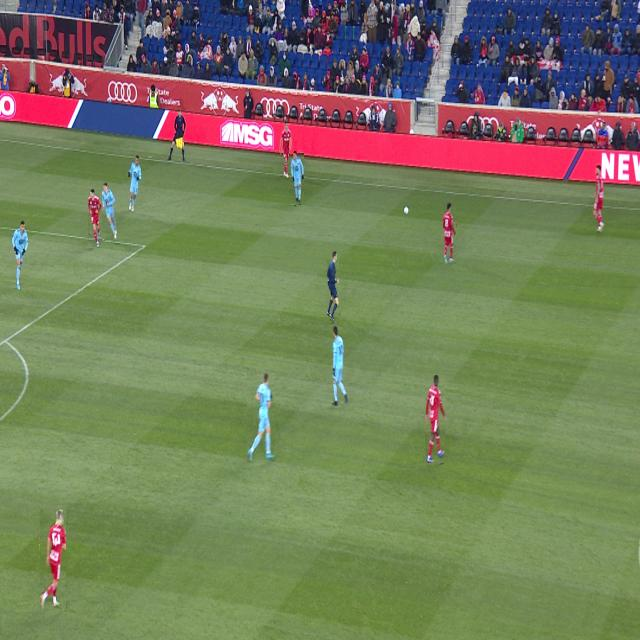football: (403, 206, 409, 215)
player: (40, 510, 66, 609), (248, 373, 275, 461), (426, 375, 445, 463), (332, 326, 348, 406), (12, 221, 28, 290), (102, 183, 117, 239), (88, 190, 102, 248), (128, 155, 142, 212), (443, 203, 456, 264), (593, 165, 604, 233), (291, 152, 304, 205), (280, 122, 291, 179)
referee: (327, 251, 339, 323)
